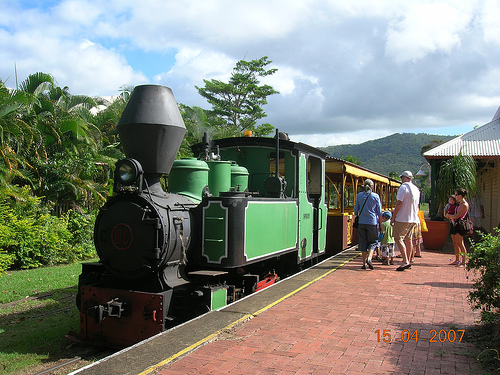without_mask: (454, 187, 468, 203), (447, 195, 457, 206)
